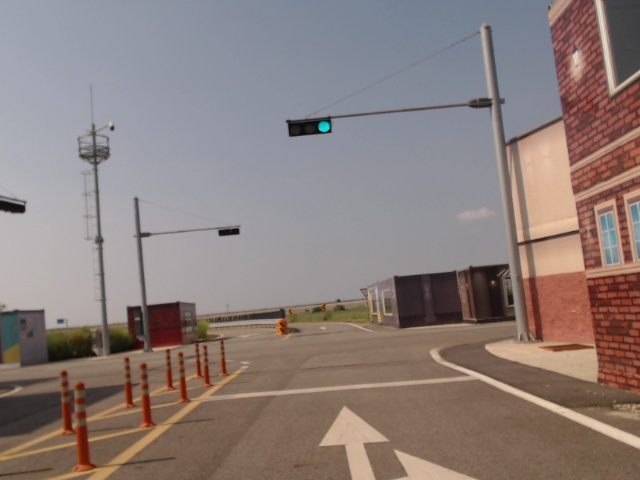green_3: (287, 117, 332, 138)
